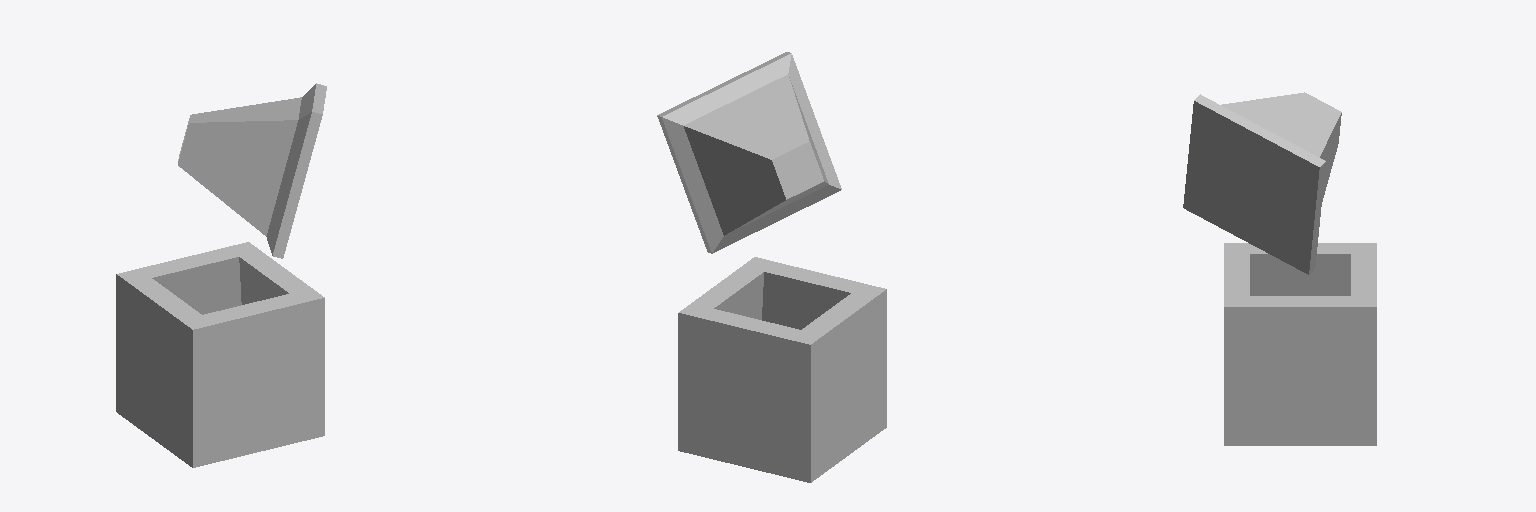
The model's file is AnimatedBox_000079.obj.
The picture shows the model from 3 angles: view 1: azimuth 30°, elevation 25°; view 2: azimuth 150°, elevation 25°; view 3: azimuth 270°, elevation 25°; orthographic projection.
Parts seen in each view (by area): view 1: Cube, Cube.001; view 2: Cube, Cube.001; view 3: Cube, Cube.001.
Boxes of the visible parts, <box> form: Cube: <box>116,242,324,467</box>; Cube.001: <box>178,83,326,258</box>; Cube: <box>678,257,886,482</box>; Cube.001: <box>657,52,841,253</box>; Cube: <box>1224,243,1376,445</box>; Cube.001: <box>1183,92,1341,274</box>.
Size of the model in its own units: 2.76 by 4.9 by 2.54.